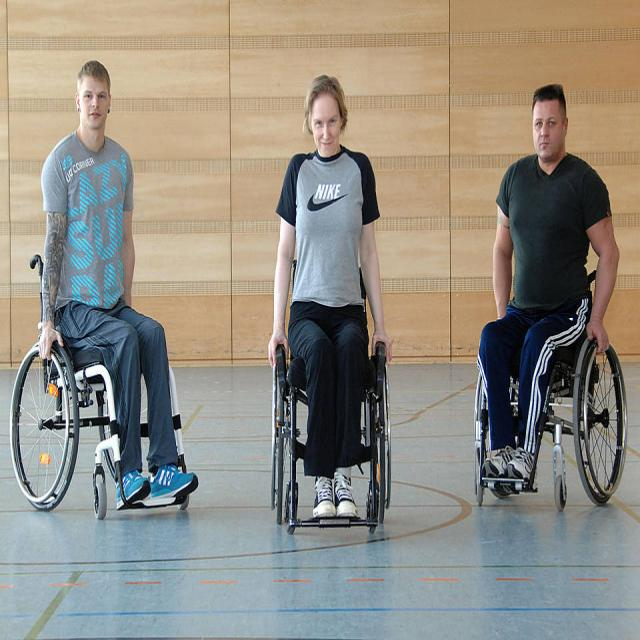wheelchairs: (5, 243, 210, 522), (248, 243, 404, 536), (462, 271, 629, 526)
